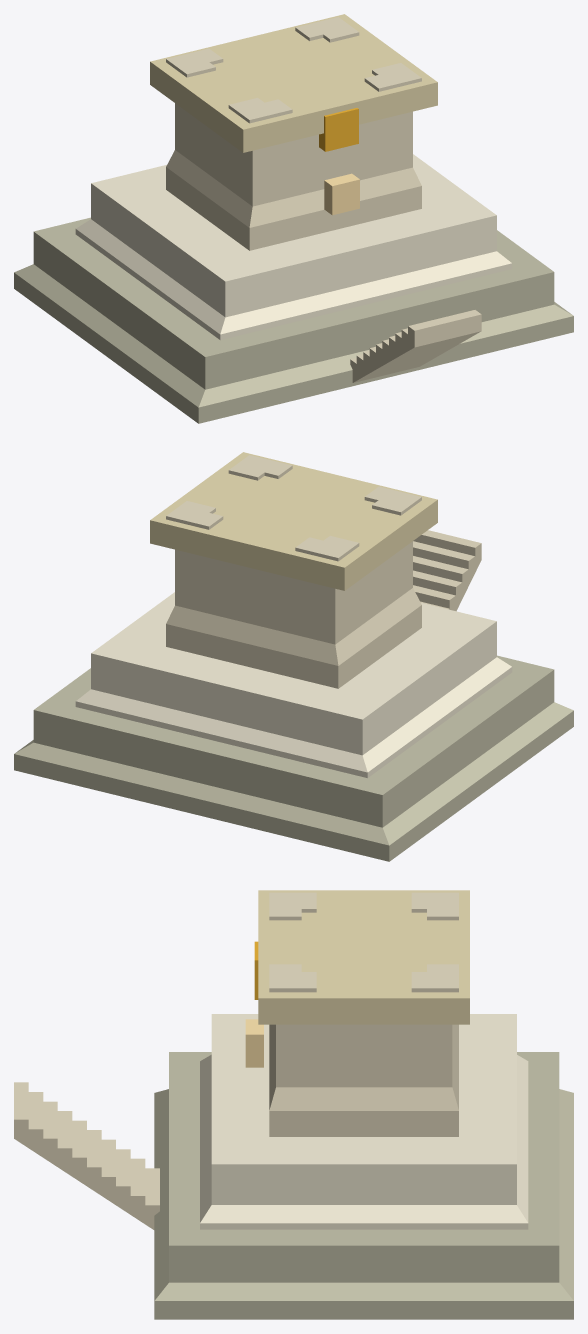
Rendered from south_american-house.glb.
The picture shows the model from 3 angles, top to bottom: view 1: azimuth 30°, elevation 25°; view 2: azimuth 150°, elevation 25°; view 3: azimuth 270°, elevation 25°; orthographic projection. The views are drawn at different scales.
Parts seen in each view (by area): view 1: body, glow; view 2: body; view 3: body, glow.
Boxes of the visible parts, x1,y1,x2,y2 form: body: [14, 14, 573, 423]; glow: [324, 173, 359, 215]; body: [14, 452, 573, 861]; body: [14, 890, 573, 1319]; glow: [245, 1019, 263, 1067].
Bounding box in the file's own units: 1.35 × 0.8316 × 1.54.
